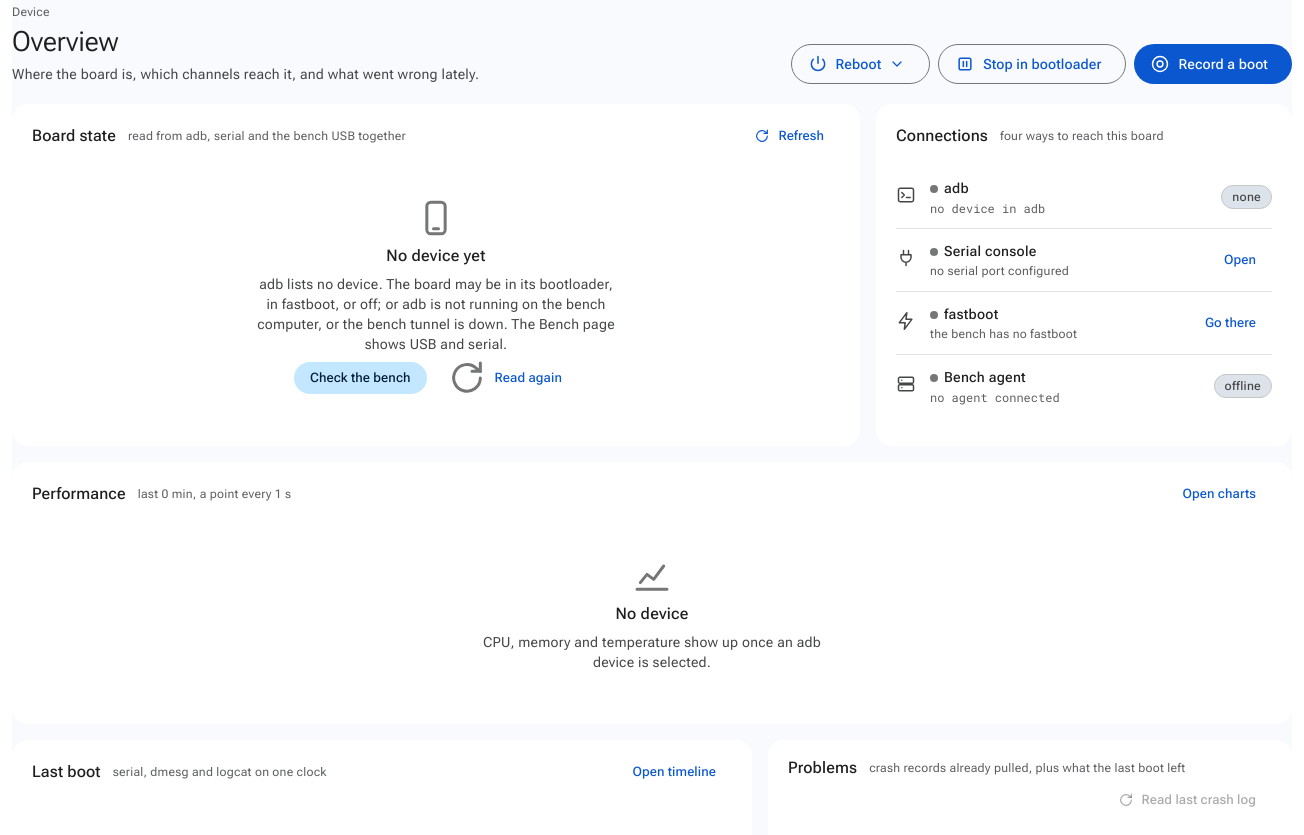
Test case: OverviewPage › asks before rebooting into the bootloader
Click the button "Stop in bootloader": (1032, 64) x1=938 y1=44 x2=1126 y2=84
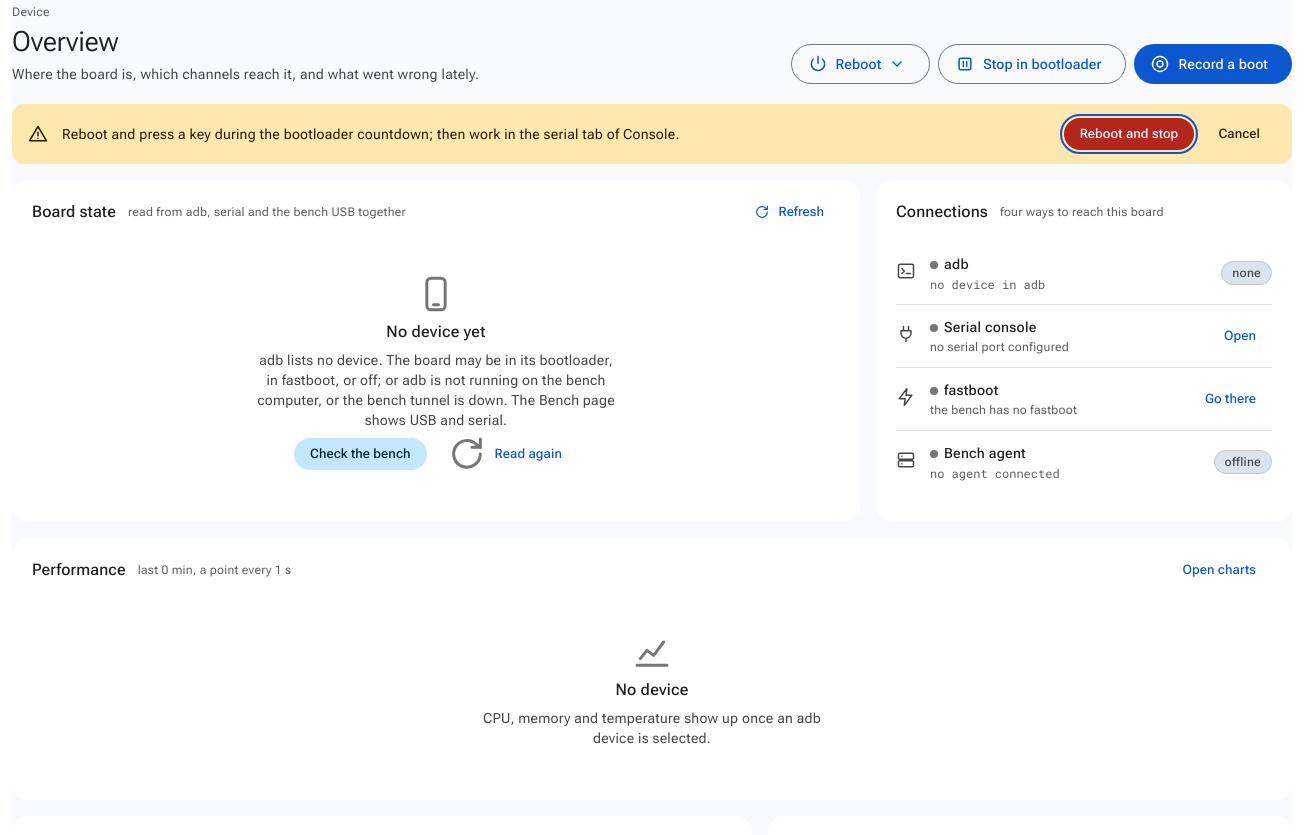
Expected: the message shows "bootloader countdown", x1=62 y1=126 x2=680 y2=142
